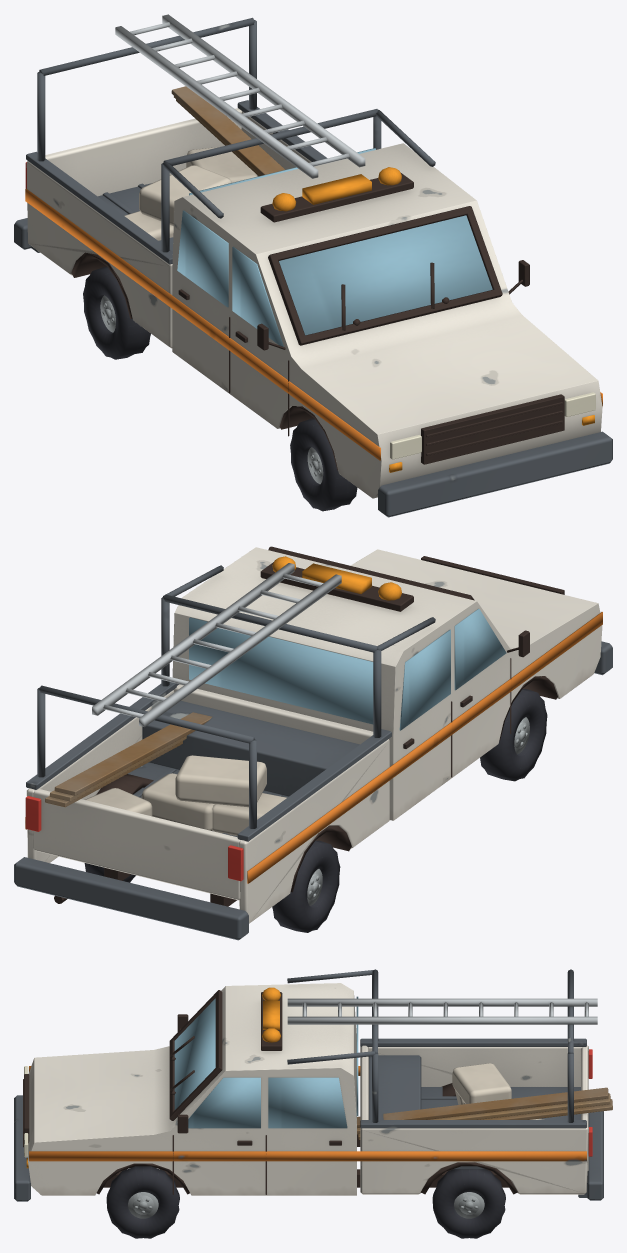
The model's file is Works_Pickup.fbx.
The picture shows the model from 3 angles, top to bottom: view 1: azimuth 30°, elevation 25°; view 2: azimuth 150°, elevation 25°; view 3: azimuth 270°, elevation 25°; orthographic projection. The views are drawn at different scales.
Parts seen in each view (by area): view 1: Body, Wheel_3, Wheel_1; view 2: Body, Wheel_3, Wheel_1; view 3: Body, Wheel_0, Wheel_2.
Part boxes in pixels (left/top/right/bottom): Body: left=14, top=14, right=612, bottom=517; Wheel_3: left=83, top=266, right=150, bottom=359; Wheel_1: left=290, top=418, right=357, bottom=511; Body: left=14, top=546, right=612, bottom=940; Wheel_3: left=272, top=840, right=340, bottom=932; Wheel_1: left=480, top=689, right=547, bottom=781; Body: left=14, top=969, right=612, bottom=1201; Wheel_0: left=106, top=1166, right=179, bottom=1238; Wheel_2: left=432, top=1169, right=505, bottom=1238.
Bounding box in the file's own units: 2.27 × 2.02 × 5.6.
1 material, 1 textured.
